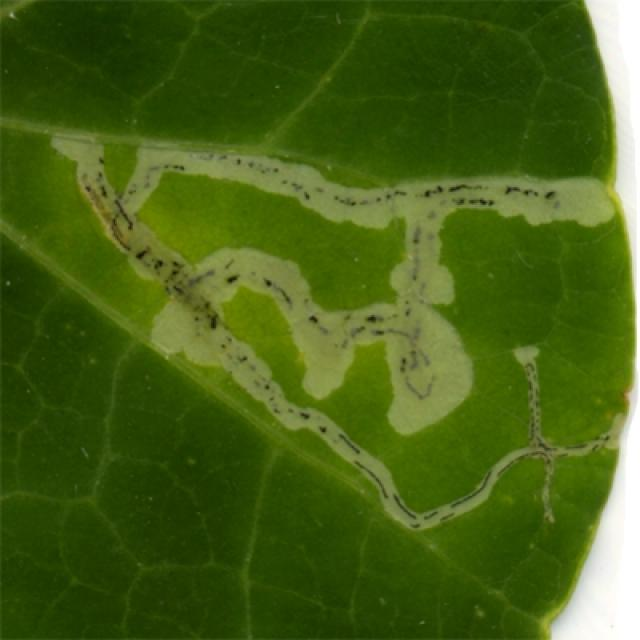Serpentine leafminer: (34, 123, 630, 542)
